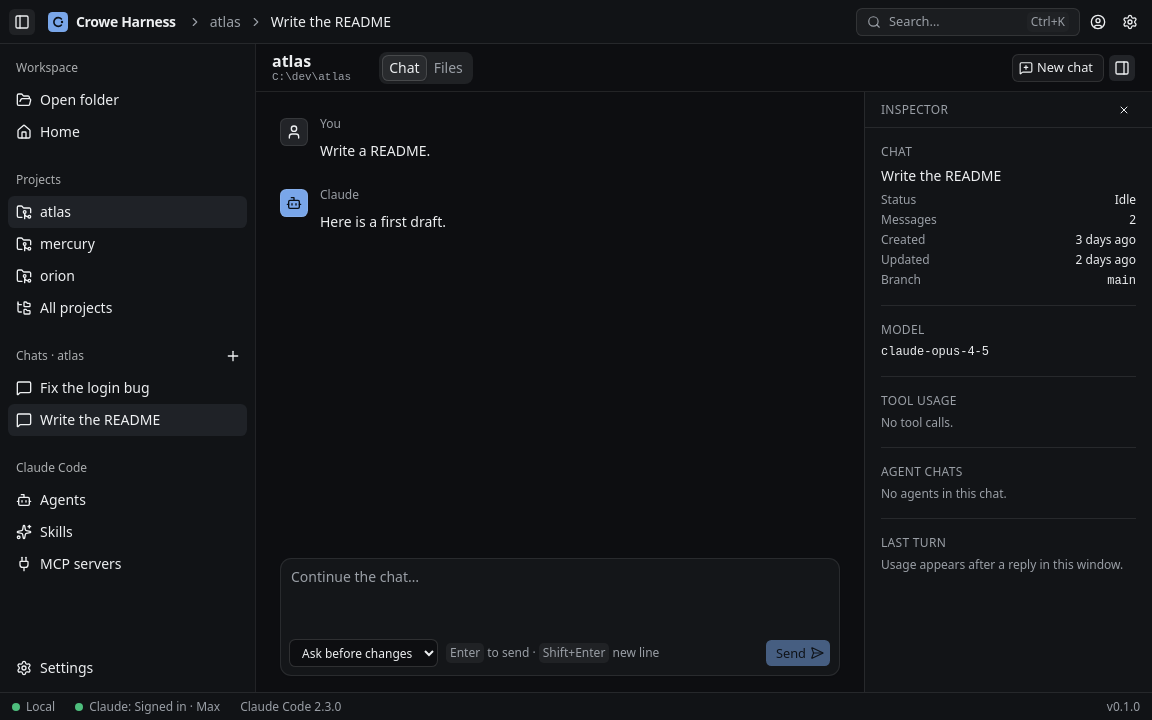
FilesView › shows an error with retry when the tree cannot be read
The image size is (1152, 720).
Step 1. Click the tab "Files" → (448, 68), box [427,54,470,80]
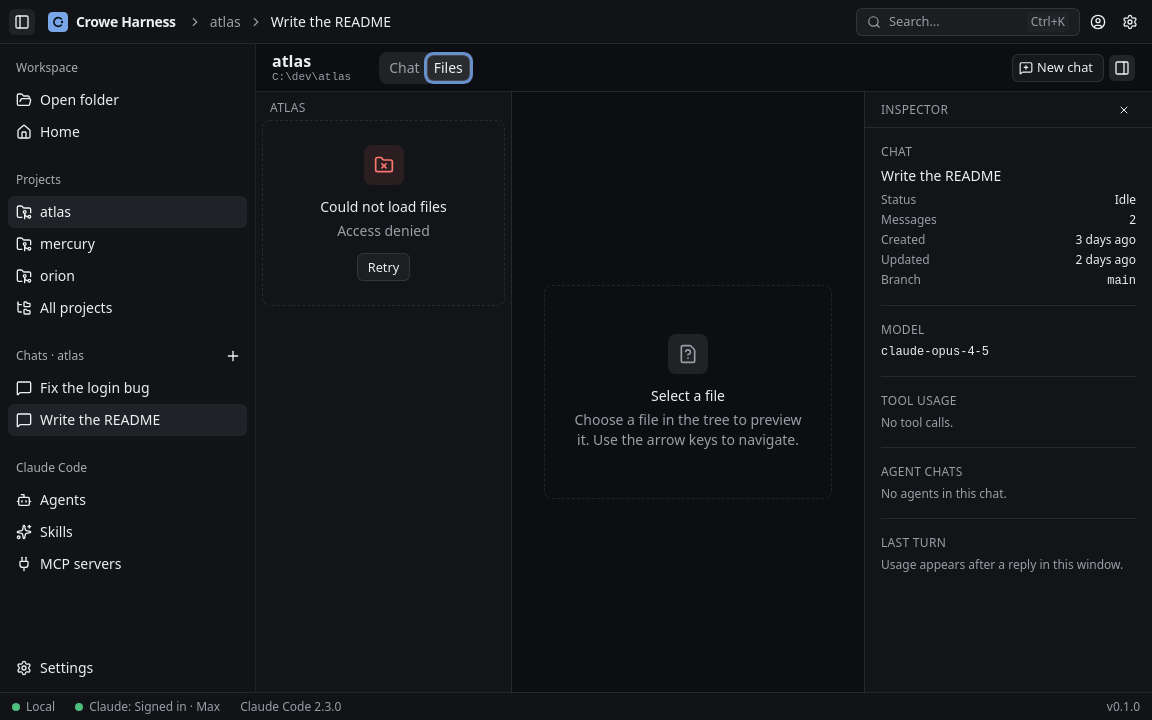
Expected: the heading "Could not load files" is shown, [320,197,447,217]
Expected: the text "Access denied" is shown, [337,221,430,240]
Step 2. Click the button "Retry" → (384, 267), box [357,253,410,281]
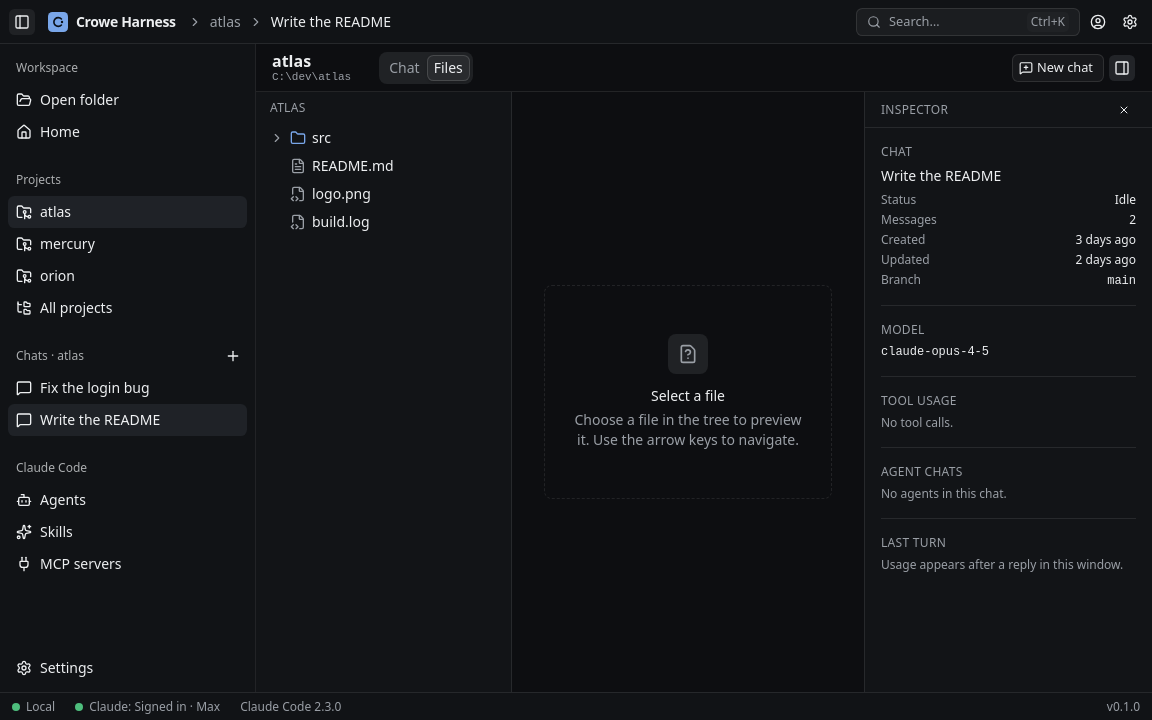
Expected: the element named "atlas files" is shown, [270,128,394,231]
